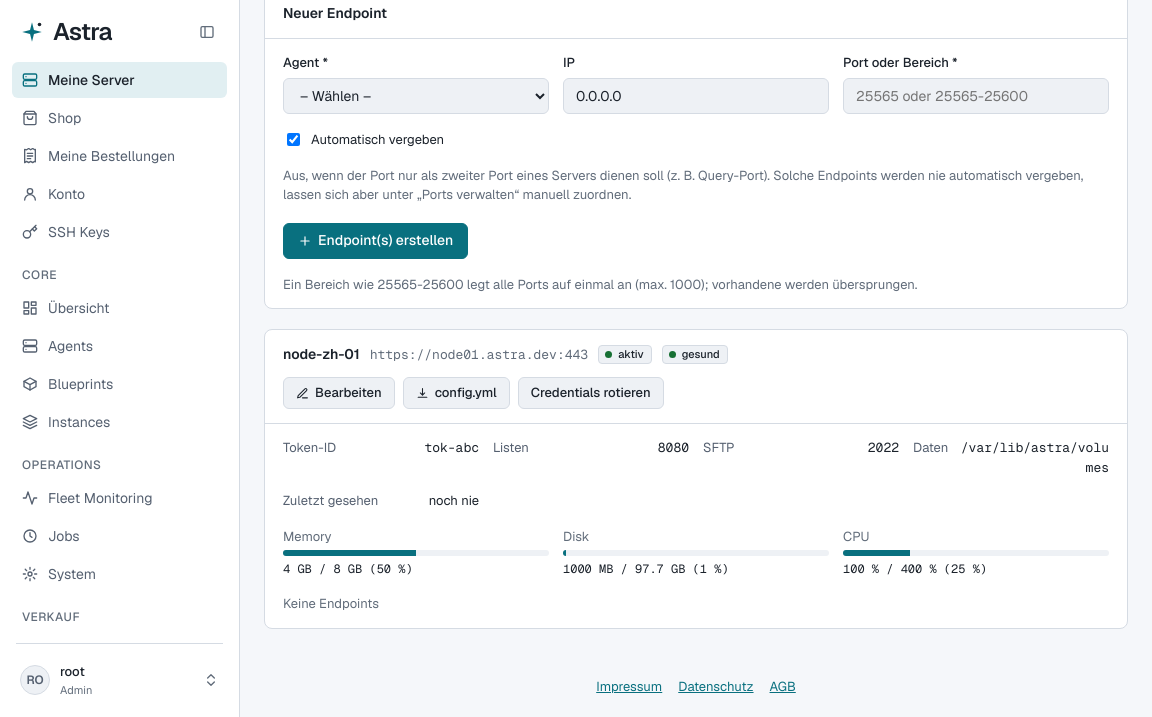
AdminAgentsPage › kennzeichnet beim Bearbeiten eine fehlende Kapazität (0) mit Hinweis, erlaubt aber das Speichern
The width and height of the screenshot is (1152, 717).
(page scrolled)
Click the button "Bearbeiten" at (339, 393), box [283,377,395,409]
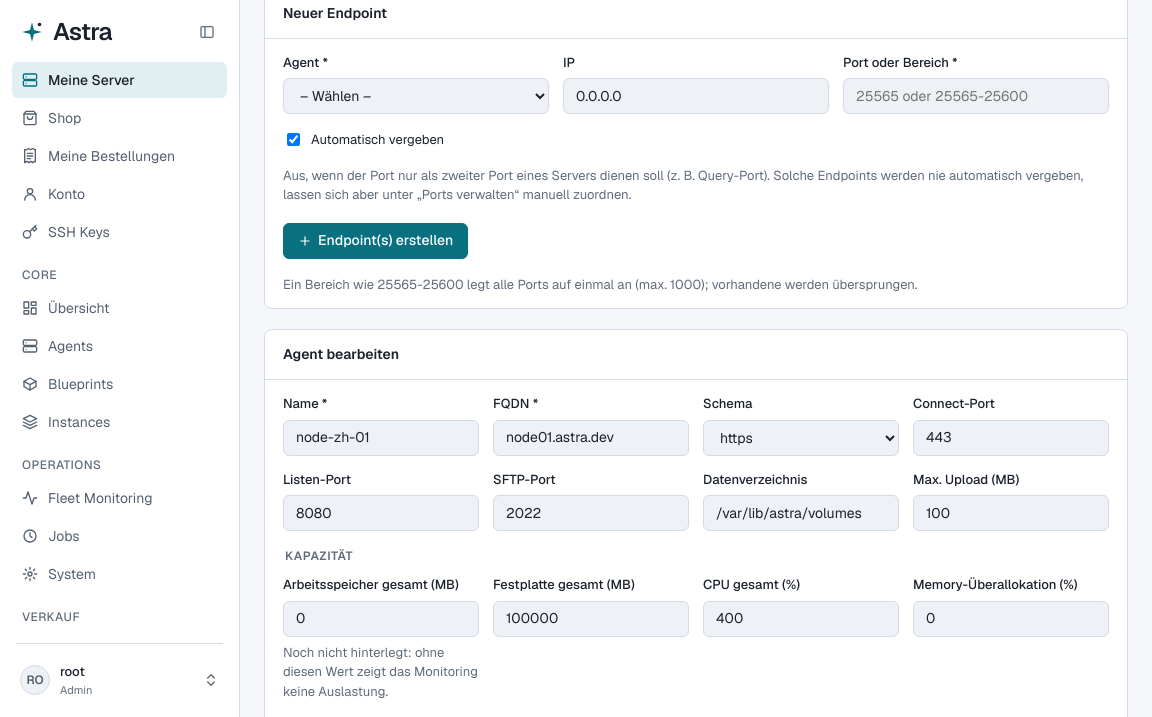
Expected: the text "Noch nicht hinterlegt" is shown once, [283,642,479,701]
